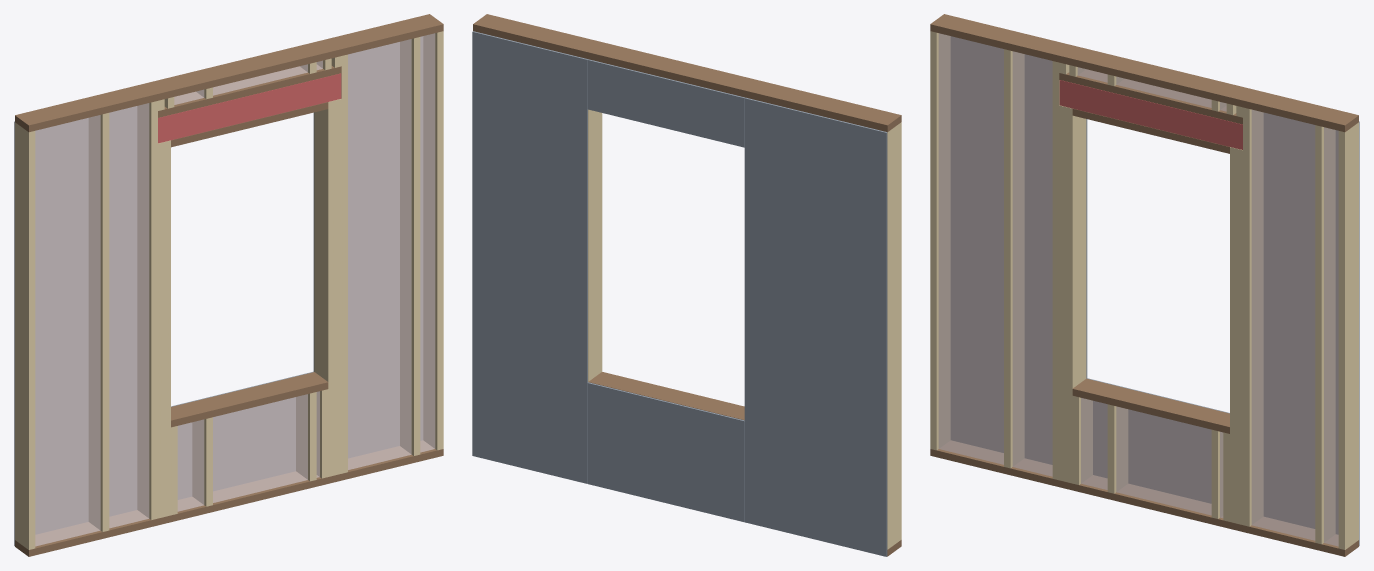
The picture shows the model from 3 angles, left to right: view 1: azimuth 30°, elevation 25°; view 2: azimuth 150°, elevation 25°; view 3: azimuth 330°, elevation 25°; orthographic projection.
Parts seen in each view (by area): view 1: EX9 GF; view 2: EX9 GF; view 3: EX9 GF.
Part boxes in pixels (x1,y1,x2,y2): EX9 GF: (14, 14, 443, 556); EX9 GF: (472, 14, 901, 556); EX9 GF: (930, 14, 1359, 556).
Bounding box in the file's own units: 2.4 × 2.39 × 0.149.
